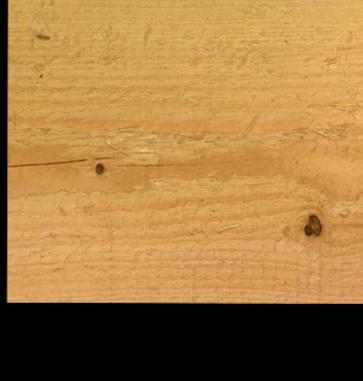dry_knot: (301, 211, 322, 236), (94, 161, 104, 172)
split: (114, 153, 282, 167), (6, 155, 88, 167)
